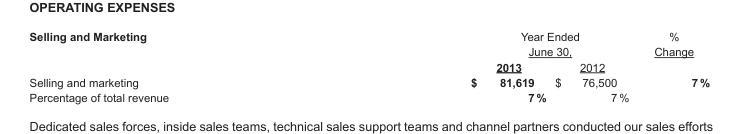table: (28, 29, 709, 103)
table column: (28, 29, 319, 103), (319, 29, 550, 103), (550, 29, 640, 103), (640, 29, 709, 103)
table column header: (28, 29, 709, 74)
table row: (28, 29, 709, 59), (28, 59, 709, 74), (28, 74, 709, 89), (28, 89, 709, 103)
table spanning cell: (28, 29, 319, 74), (319, 29, 640, 59), (640, 29, 709, 74)
